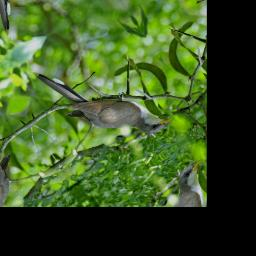Cuckoo: (36, 27, 174, 171)
